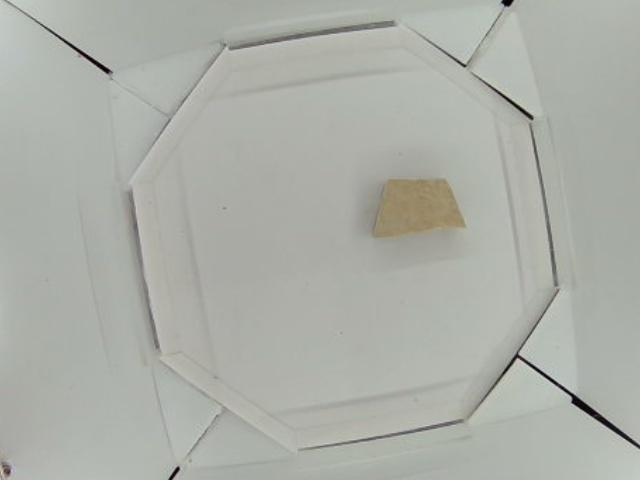China: (372, 179, 467, 245)
